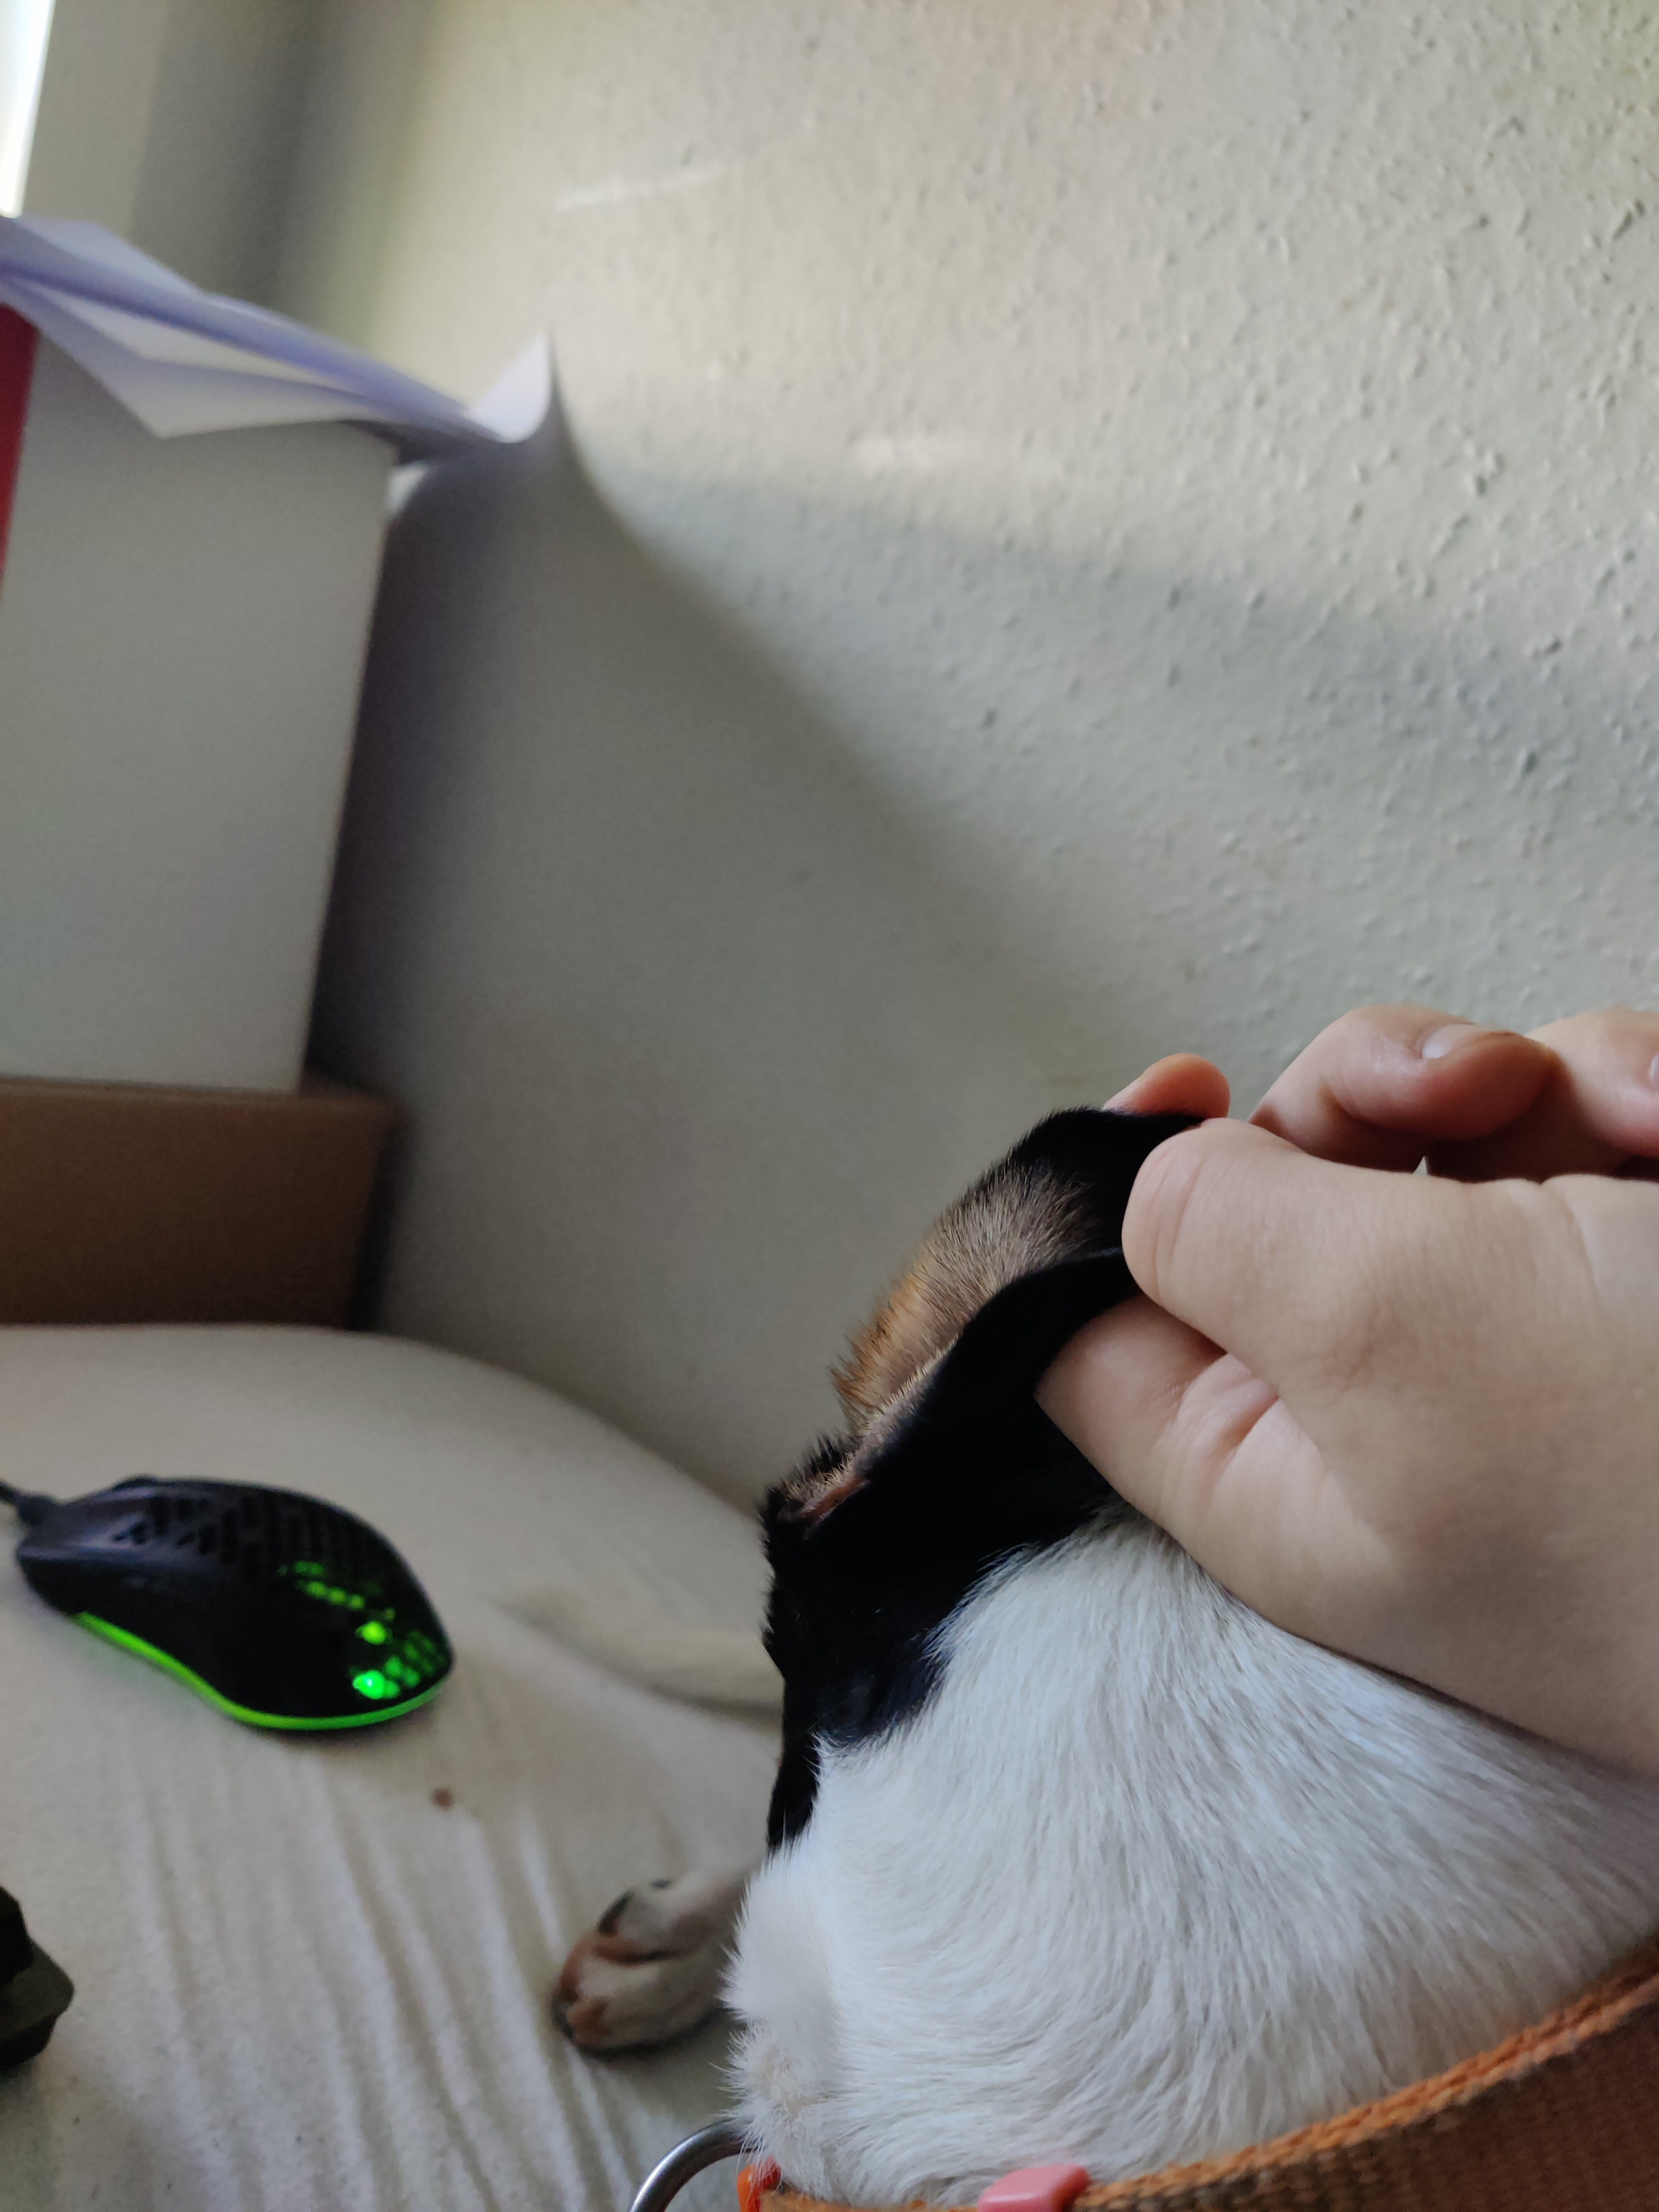Dog: (401, 1094, 1659, 2212)
